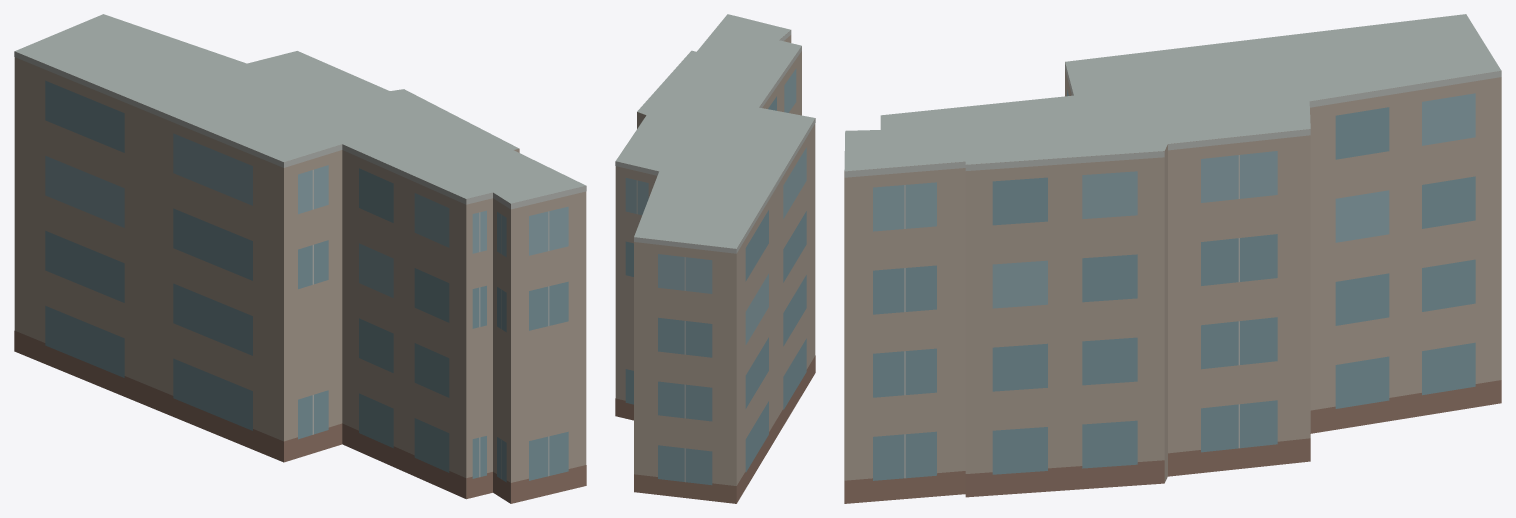
File: survey-upis-32896610.glb
3 views of the same model, side by side, from view 1: azimuth 30°, elevation 25°; view 2: azimuth 150°, elevation 25°; view 3: azimuth 270°, elevation 25° (orthographic). The views are drawn at different scales.
Visible parts, largest first — view 1: survey-upis-32896610.tmp; view 2: survey-upis-32896610.tmp; view 3: survey-upis-32896610.tmp.
Boxes of the visible parts, <box> form: survey-upis-32896610.tmp: <box>14,14,586,503</box>; survey-upis-32896610.tmp: <box>615,14,815,503</box>; survey-upis-32896610.tmp: <box>844,14,1501,503</box>.
Bounding box in the file's own units: 13.01 × 12.8 × 22.94.
